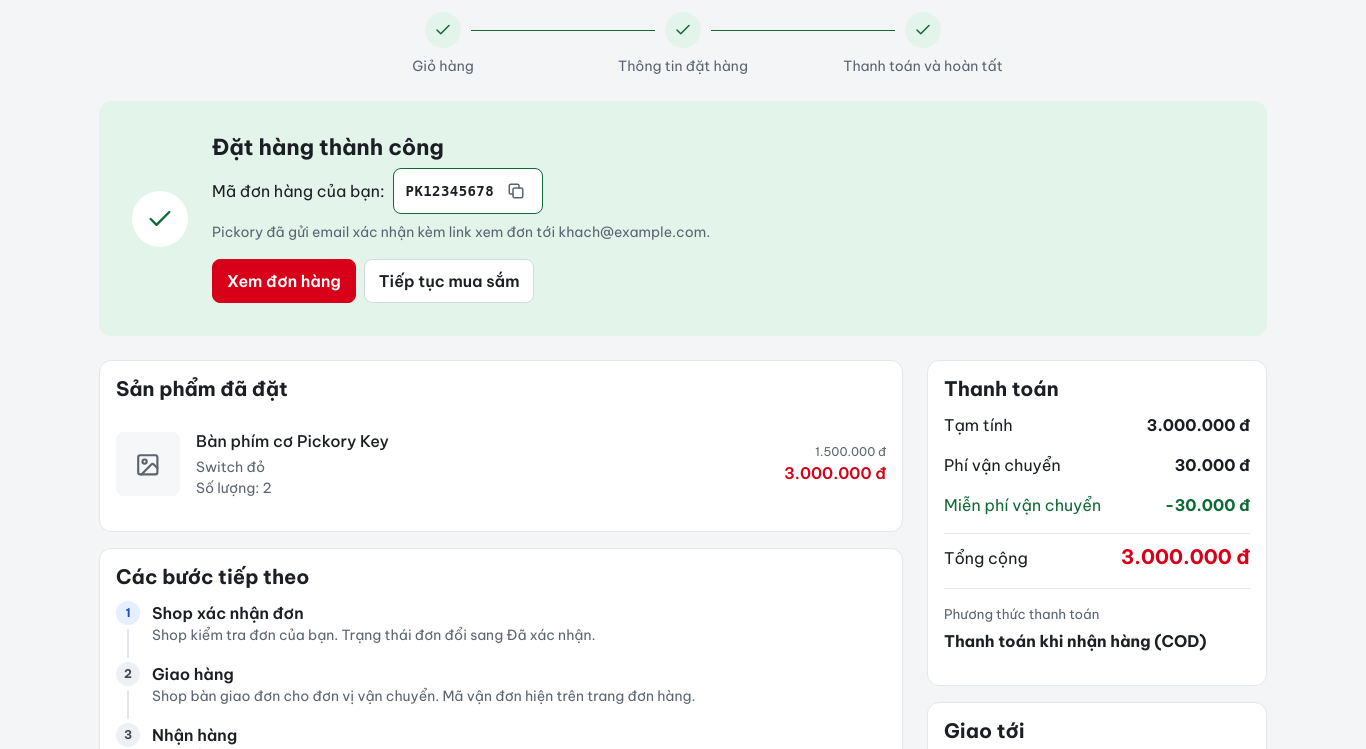
it: OrderSuccessPage › chép đúng mã đơn vào clipboard và báo Đã sao chép
Click the button named "Sao chép mã đơn hàng": (516, 191) [498,173,534,209]
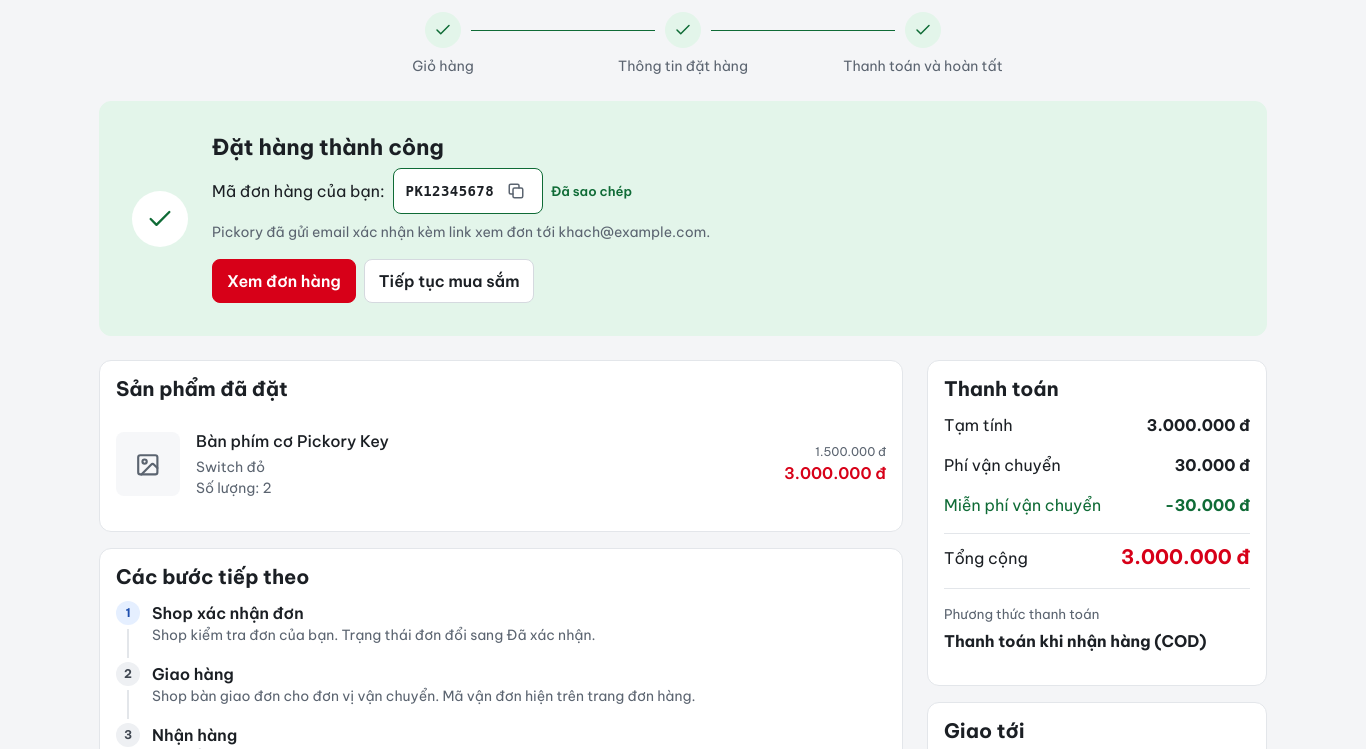
Expected: the message "Đã sao chép" is shown, [551,182,632,201]
